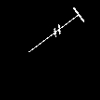treble_crochet: (29, 8, 83, 51)
